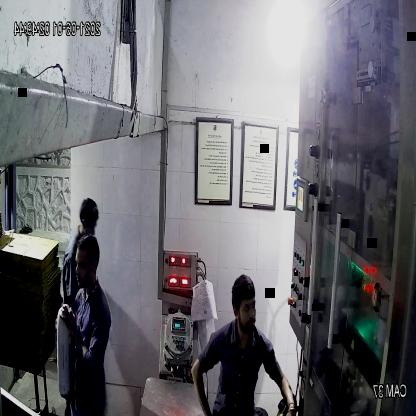no_goggles: (233, 293, 260, 320), (72, 255, 104, 277)
